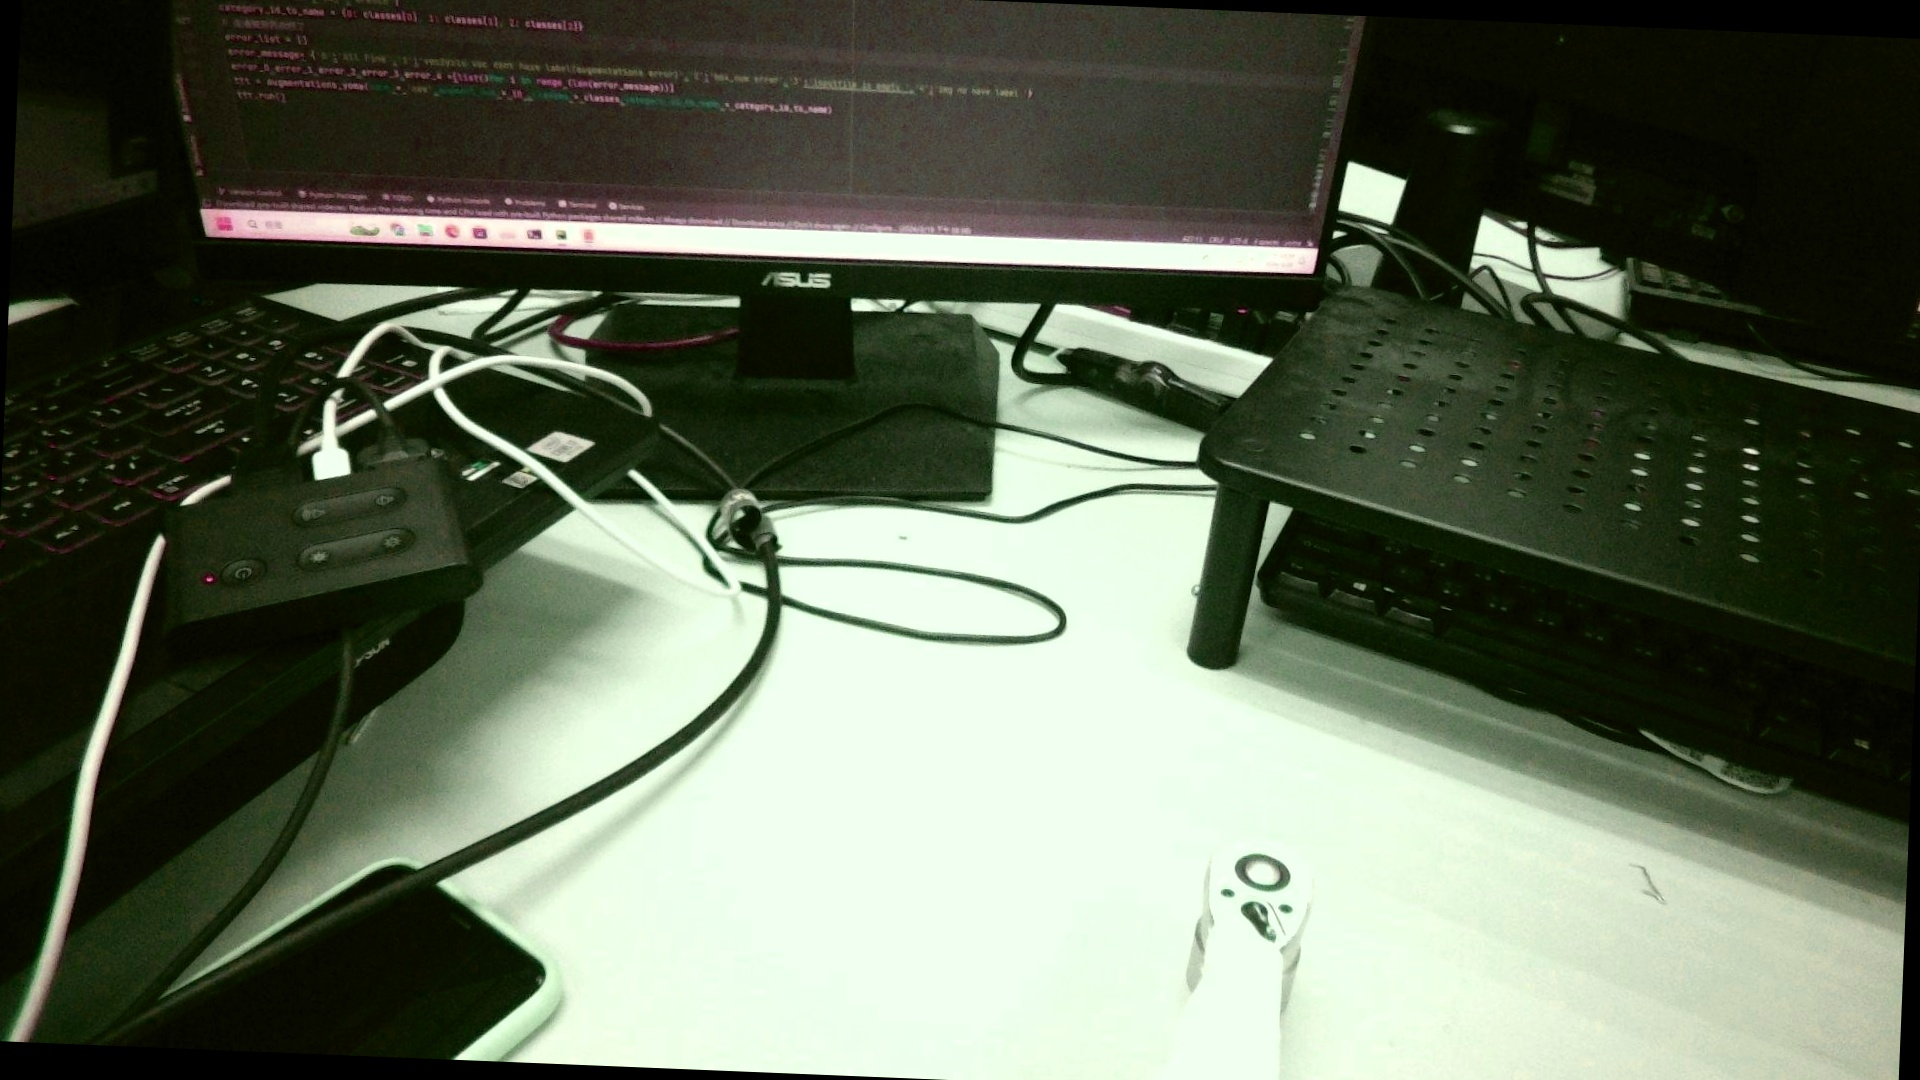wrench: (1229, 844, 1294, 893)
